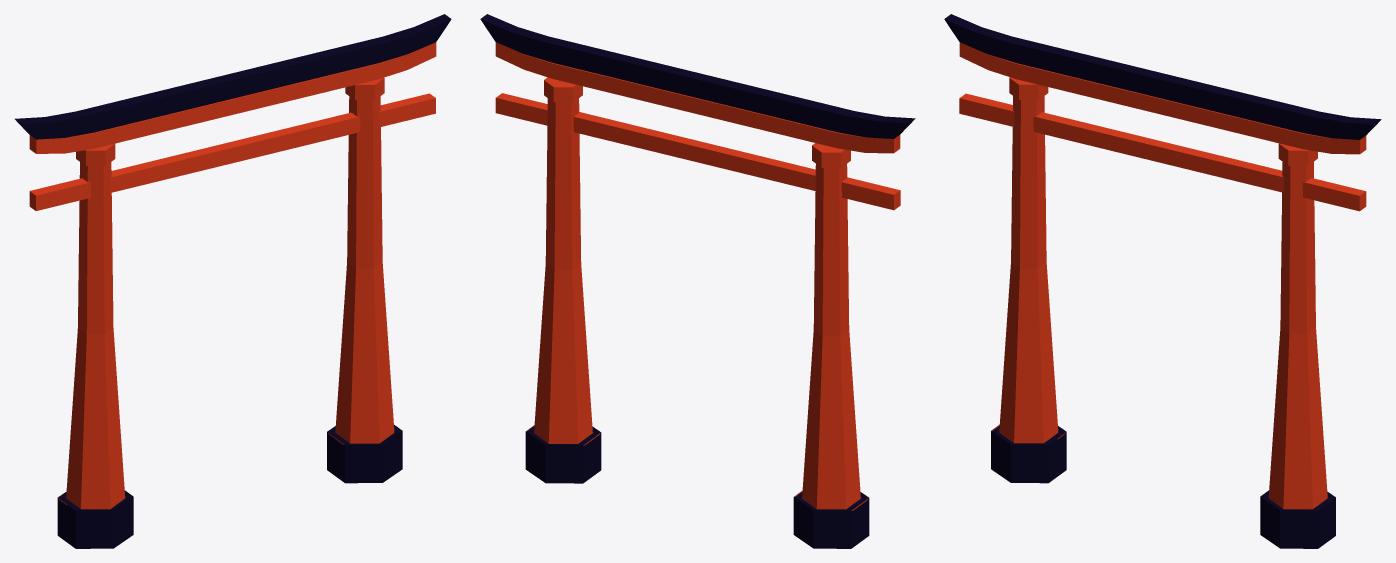
File: Planet.glb
The picture shows the model from 3 angles, left to right: view 1: azimuth 30°, elevation 25°; view 2: azimuth 150°, elevation 25°; view 3: azimuth 330°, elevation 25°; orthographic projection.
Parts seen in each view (by area): view 1: Cylinder.001; view 2: Cylinder.001; view 3: Cylinder.001.
Part boxes in pixels (<box>): Cylinder.001: <box>15,14,451,548</box>; Cylinder.001: <box>480,14,915,548</box>; Cylinder.001: <box>944,14,1381,548</box>.
Bounding box in the file's own units: 17.85 × 17.22 × 2.6.
